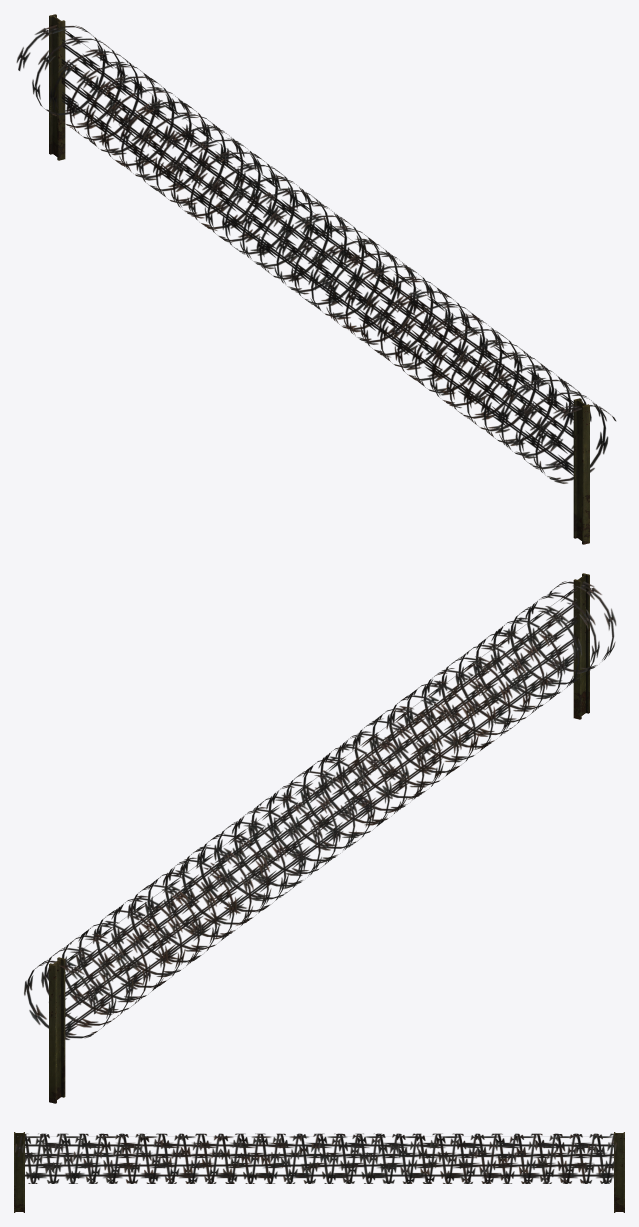
The model's file is object_94.004_lev2.glb.
The picture shows the model from 3 angles, top to bottom: view 1: azimuth 30°, elevation 25°; view 2: azimuth 150°, elevation 25°; view 3: azimuth 270°, elevation 25°; orthographic projection. The views are drawn at different scales.
Parts seen in each view (by area): view 1: object_94.004_lev2; view 2: object_94.004_lev2; view 3: object_94.004_lev2.
Boxes of the visible parts, box(x1,y1,x2,y2) form: object_94.004_lev2: box(16, 14, 616, 544); object_94.004_lev2: box(24, 573, 616, 1103); object_94.004_lev2: box(14, 1132, 624, 1212).
Size of the model in its own units: 1.05 by 1.81 by 12.68.
Materials: 1 (1 with a texture image).
